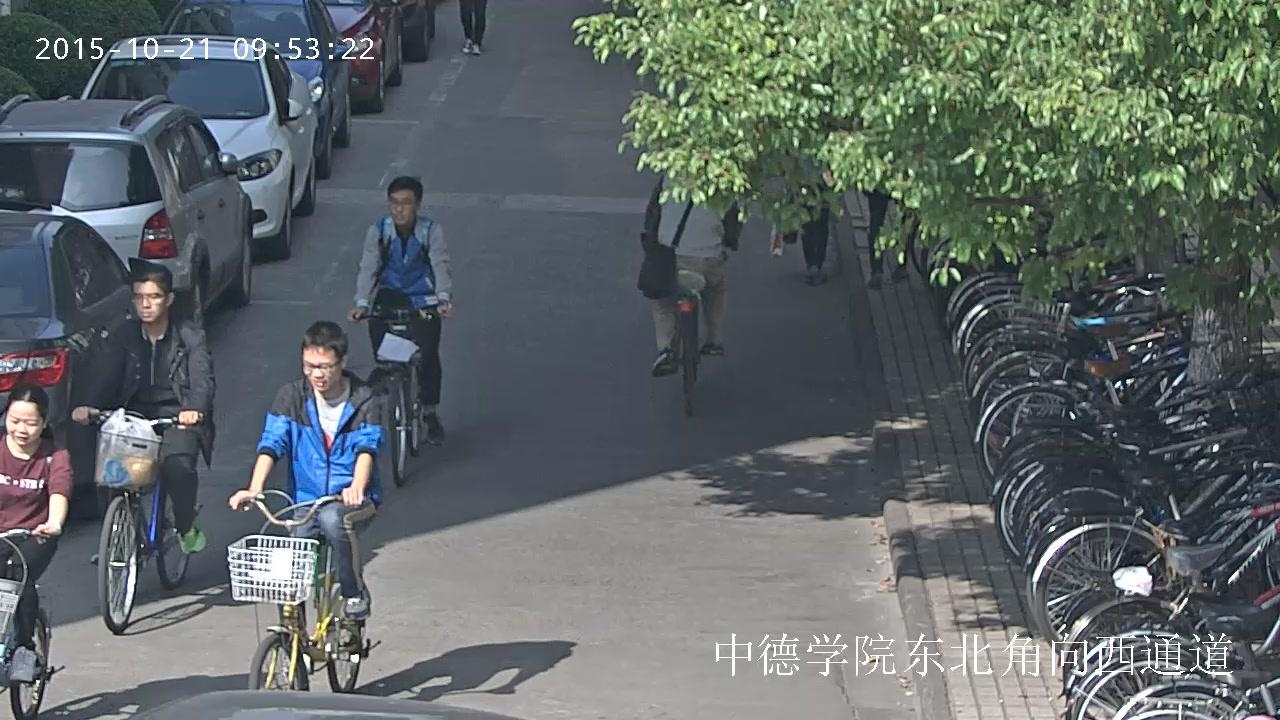person: (227, 321, 385, 696), (227, 320, 386, 679), (68, 262, 219, 634), (68, 263, 217, 563), (341, 175, 458, 489), (345, 176, 455, 444), (634, 167, 745, 417), (0, 381, 74, 720), (634, 168, 743, 380), (0, 383, 73, 685), (767, 156, 836, 285), (858, 188, 914, 287), (457, 0, 488, 54)
